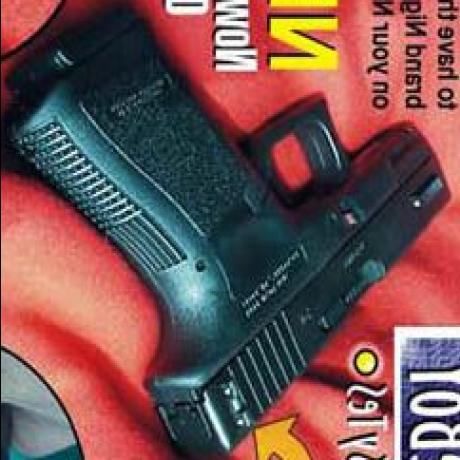weapon: (1, 0, 452, 453)
